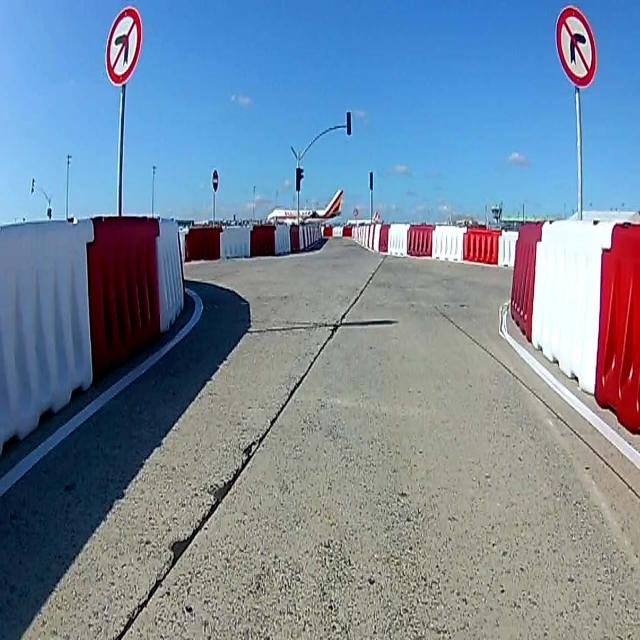sagadonulmez: (553, 4, 597, 87)
soladonulmez: (106, 11, 141, 80)
